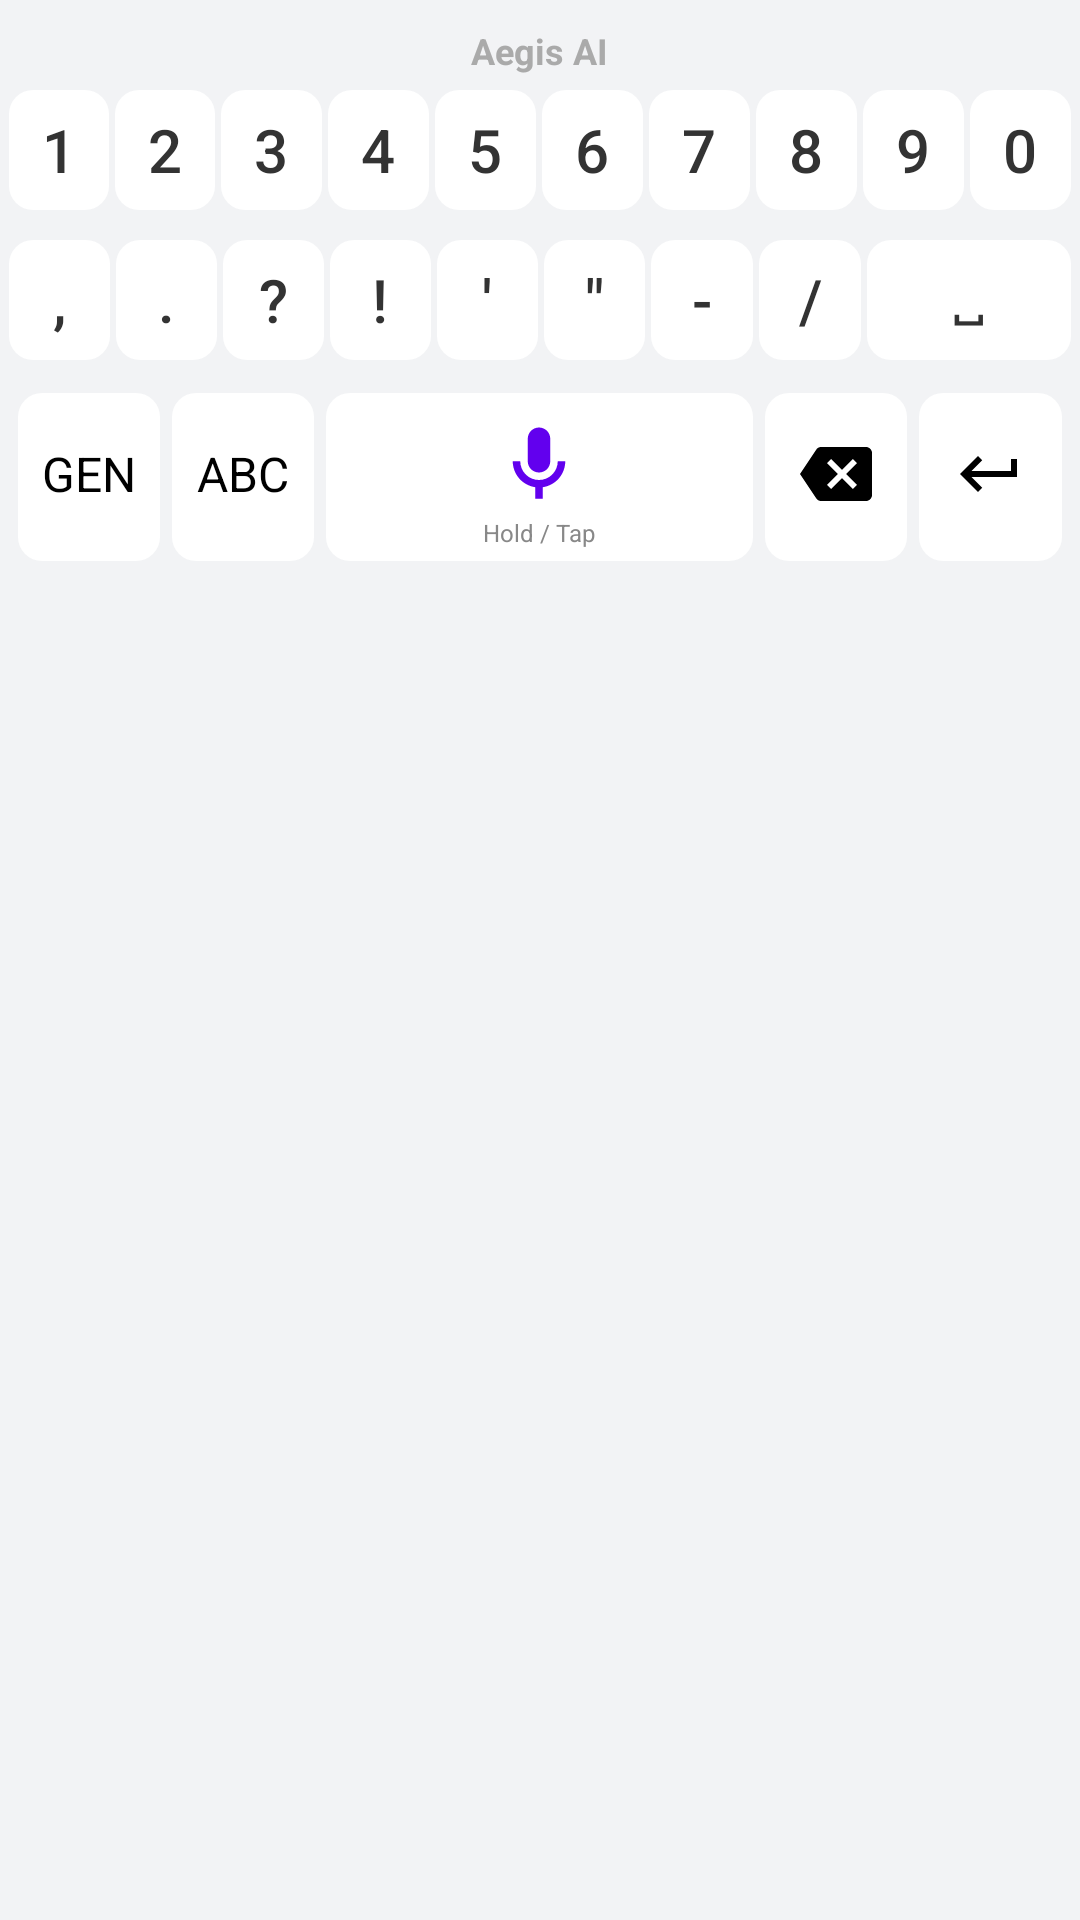

Named icons in this screenshot (1080×1920) and their centers, (x,y):
backspace: (836,474)
enter: (988,474)
mic: (539,463)
